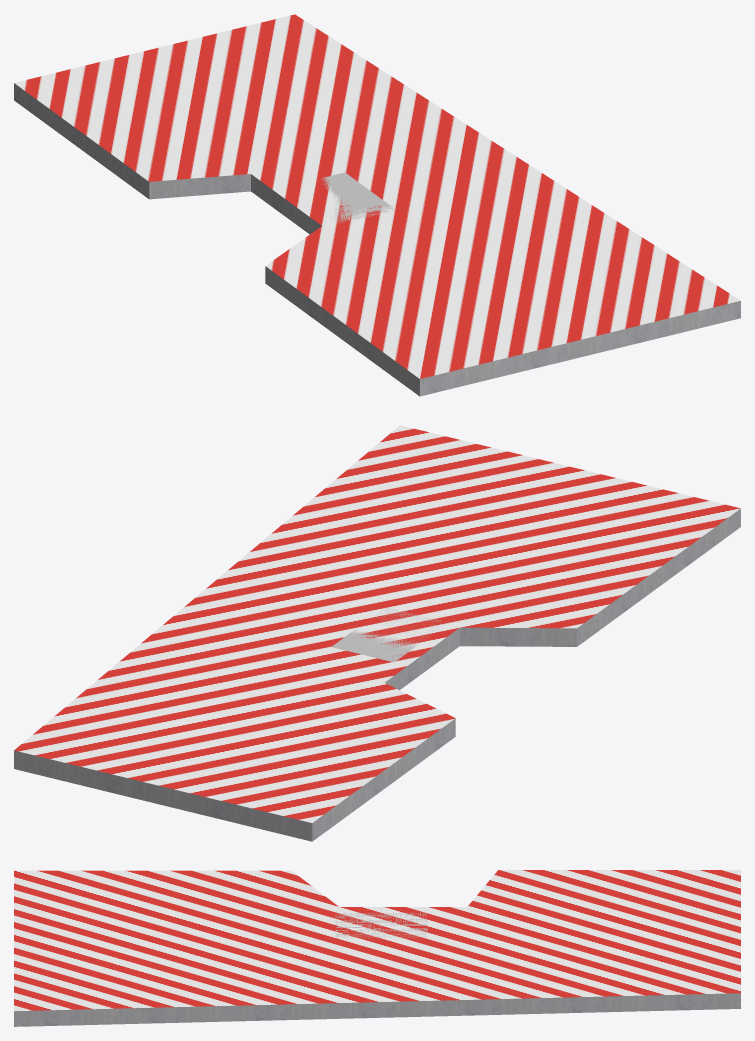
The model's file is LLHZSIDEWALK.gltf.
3 renders of one model, top to bottom at view 1: azimuth 30°, elevation 25°; view 2: azimuth 150°, elevation 25°; view 3: azimuth 270°, elevation 25°, orthographic. The views are drawn at different scales.
Parts seen in each view (by area): view 1: node1, node2, node3; view 2: node1, node2, node3; view 3: node1, node2, node3.
Boxes of the visible parts, x1,y1,x2,y2 form: node1: (14,14,740,378); node2: (14,83,740,396); node3: (321,172,395,223); node1: (14,425,740,822); node2: (14,508,740,841); node3: (331,608,445,662); node1: (14,870,740,1011); node2: (14,993,740,1026); node3: (335,912,427,938).
Size of the model in its own units: 4.81 by 0.25 by 10.48.
